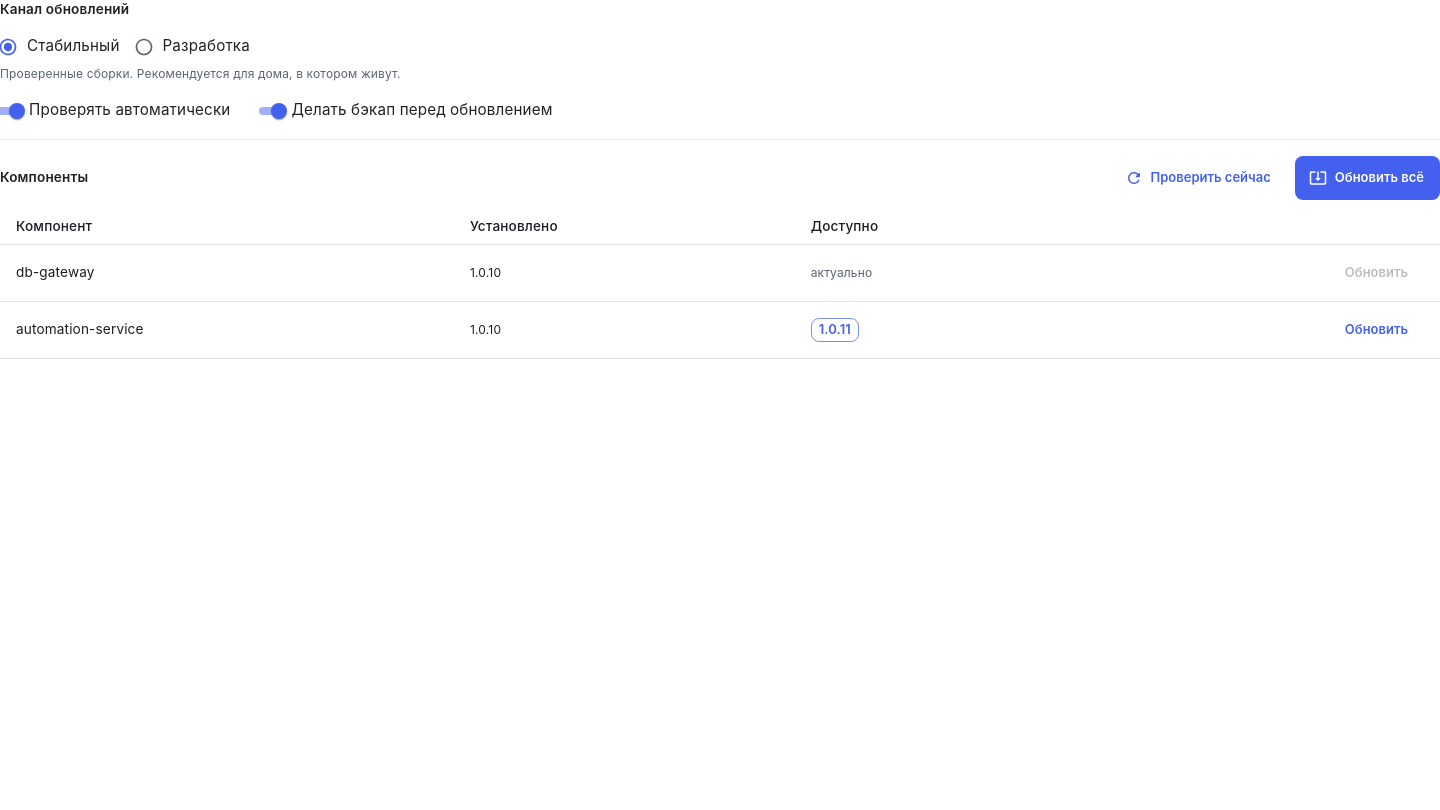
UpdatesEditor › explains an atomic group instead of just listing it
expect the text "automation-service" is shown: met, box top-left (0, 301), bottom-right (454, 358)
Click the button "Обновить" in the row of "automation-service": [1376, 330] box top-left (1329, 308), bottom-right (1424, 352)
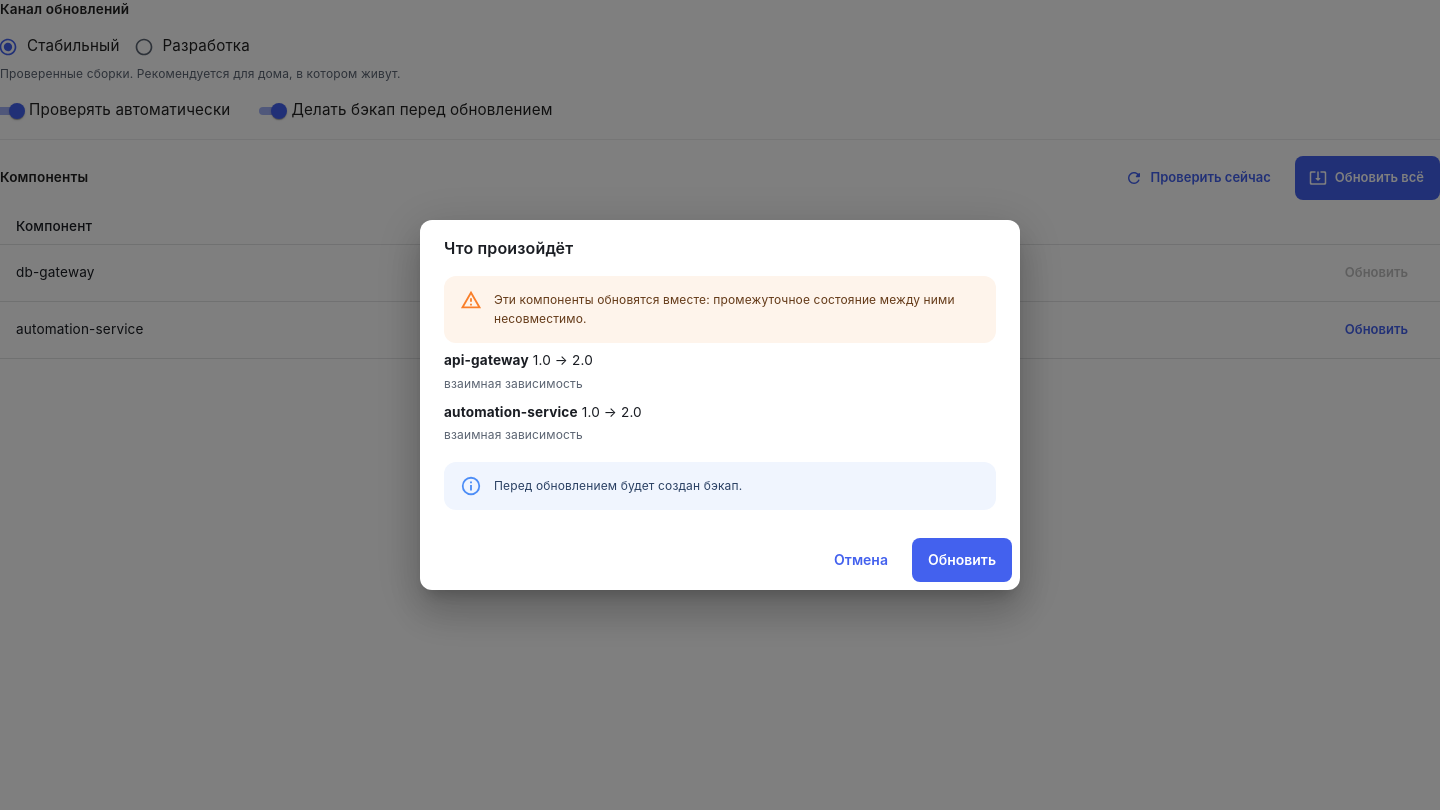
expect the text "обновятся вместе" is shown: met, box top-left (494, 292), bottom-right (955, 326)
